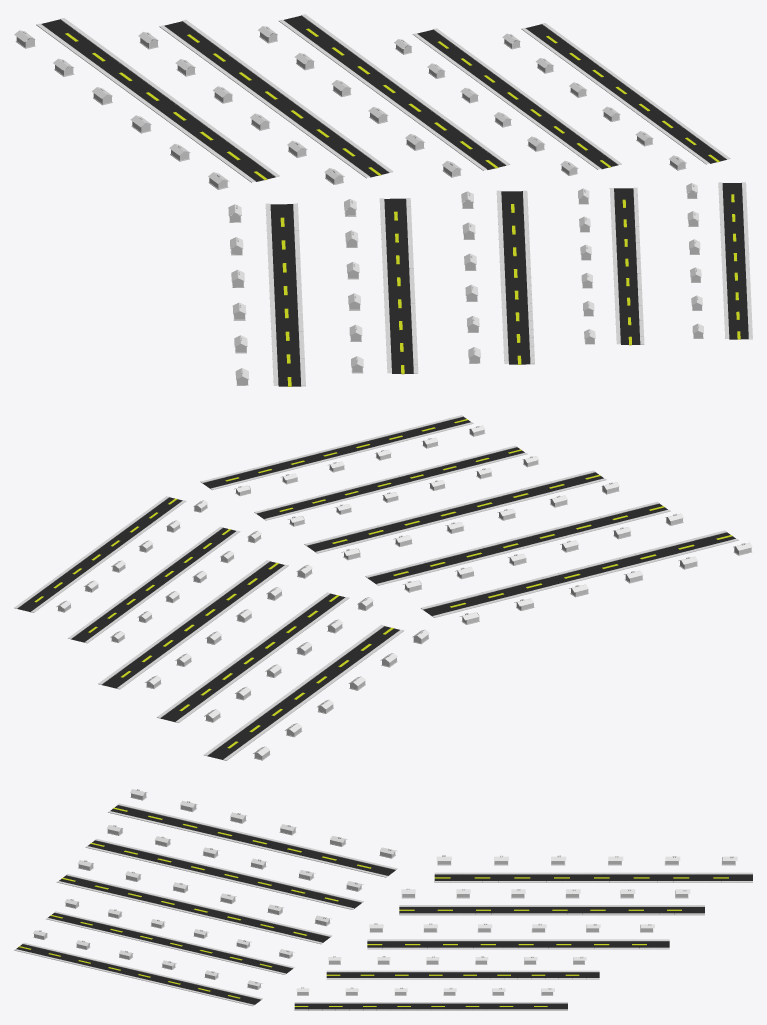
File: Neighborhood.fbx
The picture shows the model from 3 angles, top to bottom: view 1: azimuth 30°, elevation 25°; view 2: azimuth 150°, elevation 25°; view 3: azimuth 270°, elevation 25°; orthographic projection. The views are drawn at different scales.
Parts seen in each view (by area): view 1: Road.009, Road.008, Road.007, Road.005, Road.006, Road.004, Road.001, Road.003, Road.002, Road, Sidewalk.017, Sidewalk.016 (+30 smaller); view 2: Road.009, Road.008, Road.007, Road.006, Road.005, Road.004, Road.001, Road.003, Road, Road.002, Sidewalk.019, Sidewalk.018 (+19 smaller); view 3: Road.008, Road.009, Road.007, Road.006, Road.005, Road.004, Road, Road.001, Road.003, Road.002, Sidewalk.017, Sidewalk.012 (+30 smaller).
Boxes of the visible parts, box(x1,y1,x2,y2) form: Road.009: box(270, 204, 301, 386); Road.008: box(41, 19, 275, 181); Road.007: box(384, 198, 413, 373); Road.005: box(501, 191, 530, 364); Road.006: box(164, 21, 388, 177); Road.004: box(283, 15, 505, 169); Road.001: box(722, 183, 748, 339); Road.003: box(614, 188, 640, 344); Road.002: box(417, 29, 617, 169); Road: box(525, 24, 726, 163); Sidewalk.017: box(36, 23, 256, 182); Sidewalk.016: box(60, 18, 279, 177); Road.009: box(423, 532, 735, 615); Road.008: box(207, 626, 399, 759); Road.007: box(367, 503, 667, 583); Road.006: box(160, 593, 345, 722); Road.005: box(307, 472, 603, 551); Road.004: box(102, 561, 284, 688); Road.001: box(202, 416, 470, 488); Road.003: box(256, 447, 524, 518); Road: box(17, 497, 182, 612); Road.002: box(71, 527, 235, 642); Sidewalk.019: box(432, 538, 738, 617); Sidewalk.018: box(421, 530, 726, 609); Road.008: box(434, 874, 752, 881); Road.009: box(110, 805, 395, 875); Road.007: box(88, 840, 361, 908); Road.006: box(399, 907, 704, 913); Road.005: box(59, 875, 330, 942); Road.004: box(367, 941, 669, 947); Road: box(294, 1003, 567, 1009); Road.001: box(16, 944, 260, 1004); Road.003: box(48, 913, 292, 973); Road.002: box(326, 972, 599, 977); Sidewalk.017: box(434, 872, 752, 874); Sidewalk.012: box(399, 913, 704, 915).
Size of what is drawn, in the model's own units: 22557 by 376 by 32458.
